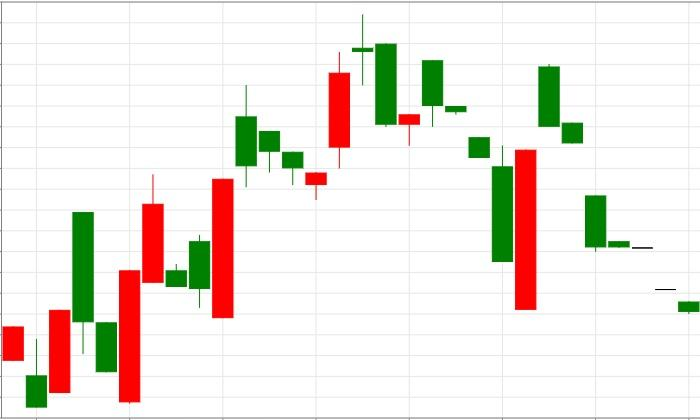bullish_engulfing_rise: (422, 59, 536, 311), (141, 173, 235, 319)
three_black_crows_fall: (491, 64, 607, 311)
